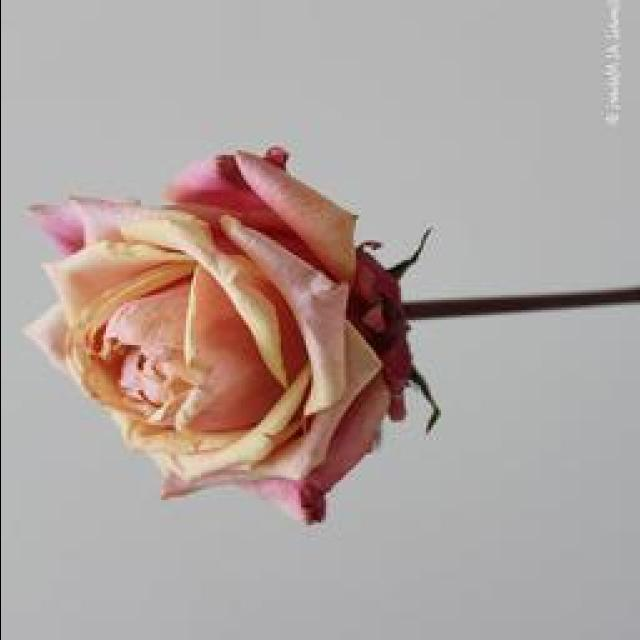rose: (17, 133, 419, 565)
